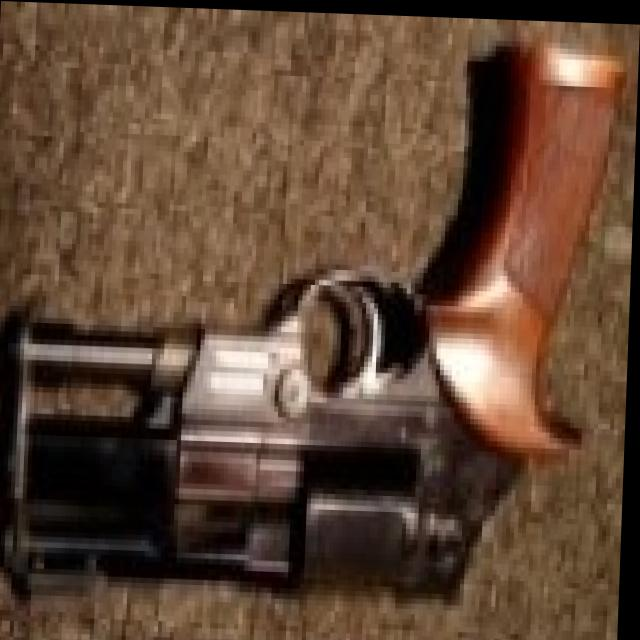handgun: (0, 32, 623, 626)
